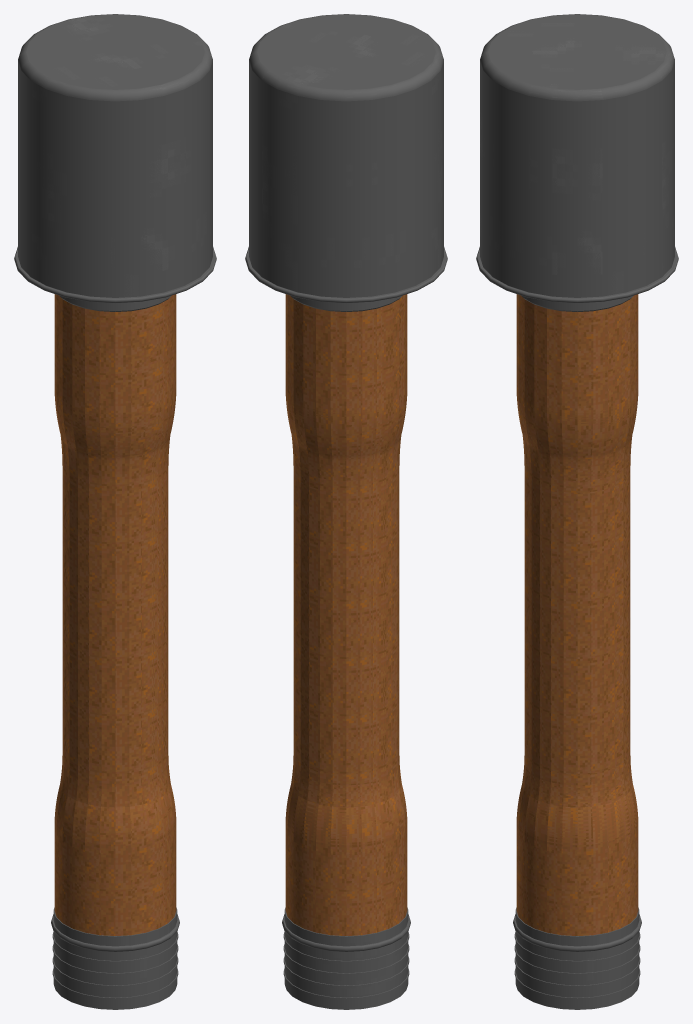
The model's file is WWI Potato Masher (Complete).dae.
The picture shows the model from 3 angles, left to right: view 1: azimuth 30°, elevation 25°; view 2: azimuth 150°, elevation 25°; view 3: azimuth 270°, elevation 25°; orthographic projection.
Parts seen in each view (by area): view 1: Handle1, Explosive_WarHead (×3), Screw_Knob (×11); view 2: Handle1, Explosive_WarHead (×3), Screw_Knob (×11); view 3: Handle1, Explosive_WarHead (×3), Screw_Knob (×11).
Part boxes in pixels (box(x1,y1,x2,y2)): Handle1: box(54, 294, 176, 935); Explosive_WarHead (×3): box(14, 14, 216, 311); Screw_Knob (×11): box(51, 907, 179, 1009); Handle1: box(285, 294, 407, 935); Explosive_WarHead (×3): box(245, 14, 447, 311); Screw_Knob (×11): box(282, 907, 410, 1009); Handle1: box(516, 294, 638, 935); Explosive_WarHead (×3): box(476, 14, 678, 311); Screw_Knob (×11): box(513, 907, 641, 1009).
Bounding box in the file's own units: 2.86 × 2.86 × 14.51.
5 materials, 5 textured.
